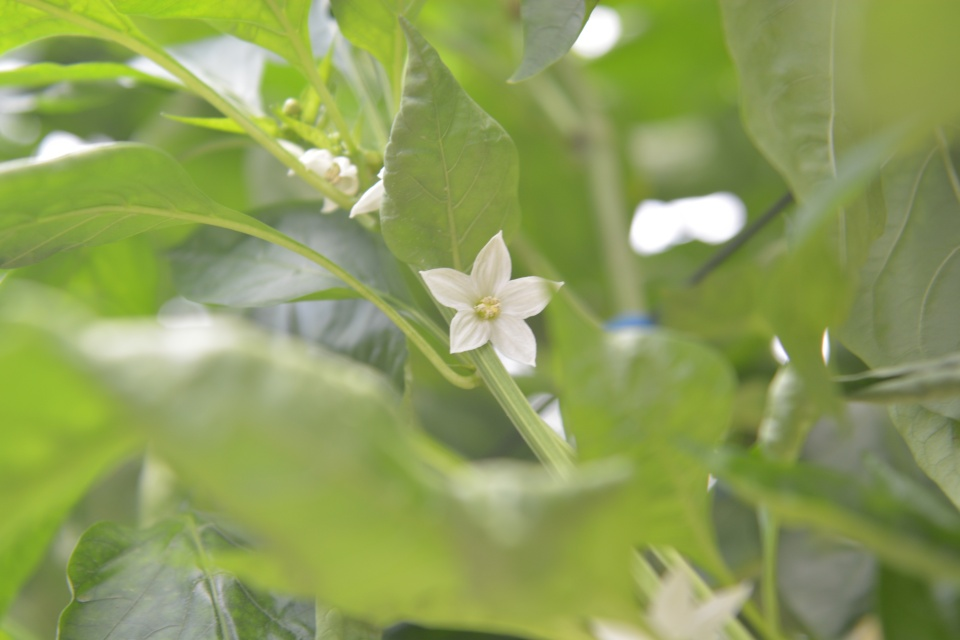flower: (416, 227, 566, 370), (589, 566, 758, 640), (285, 144, 361, 215)
